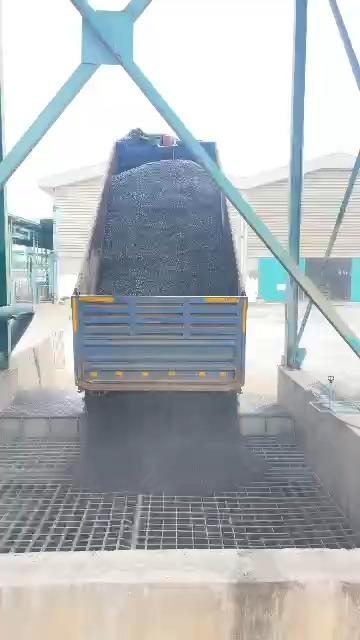gravel: (98, 160, 237, 295), (82, 392, 262, 495), (6, 393, 76, 416)
